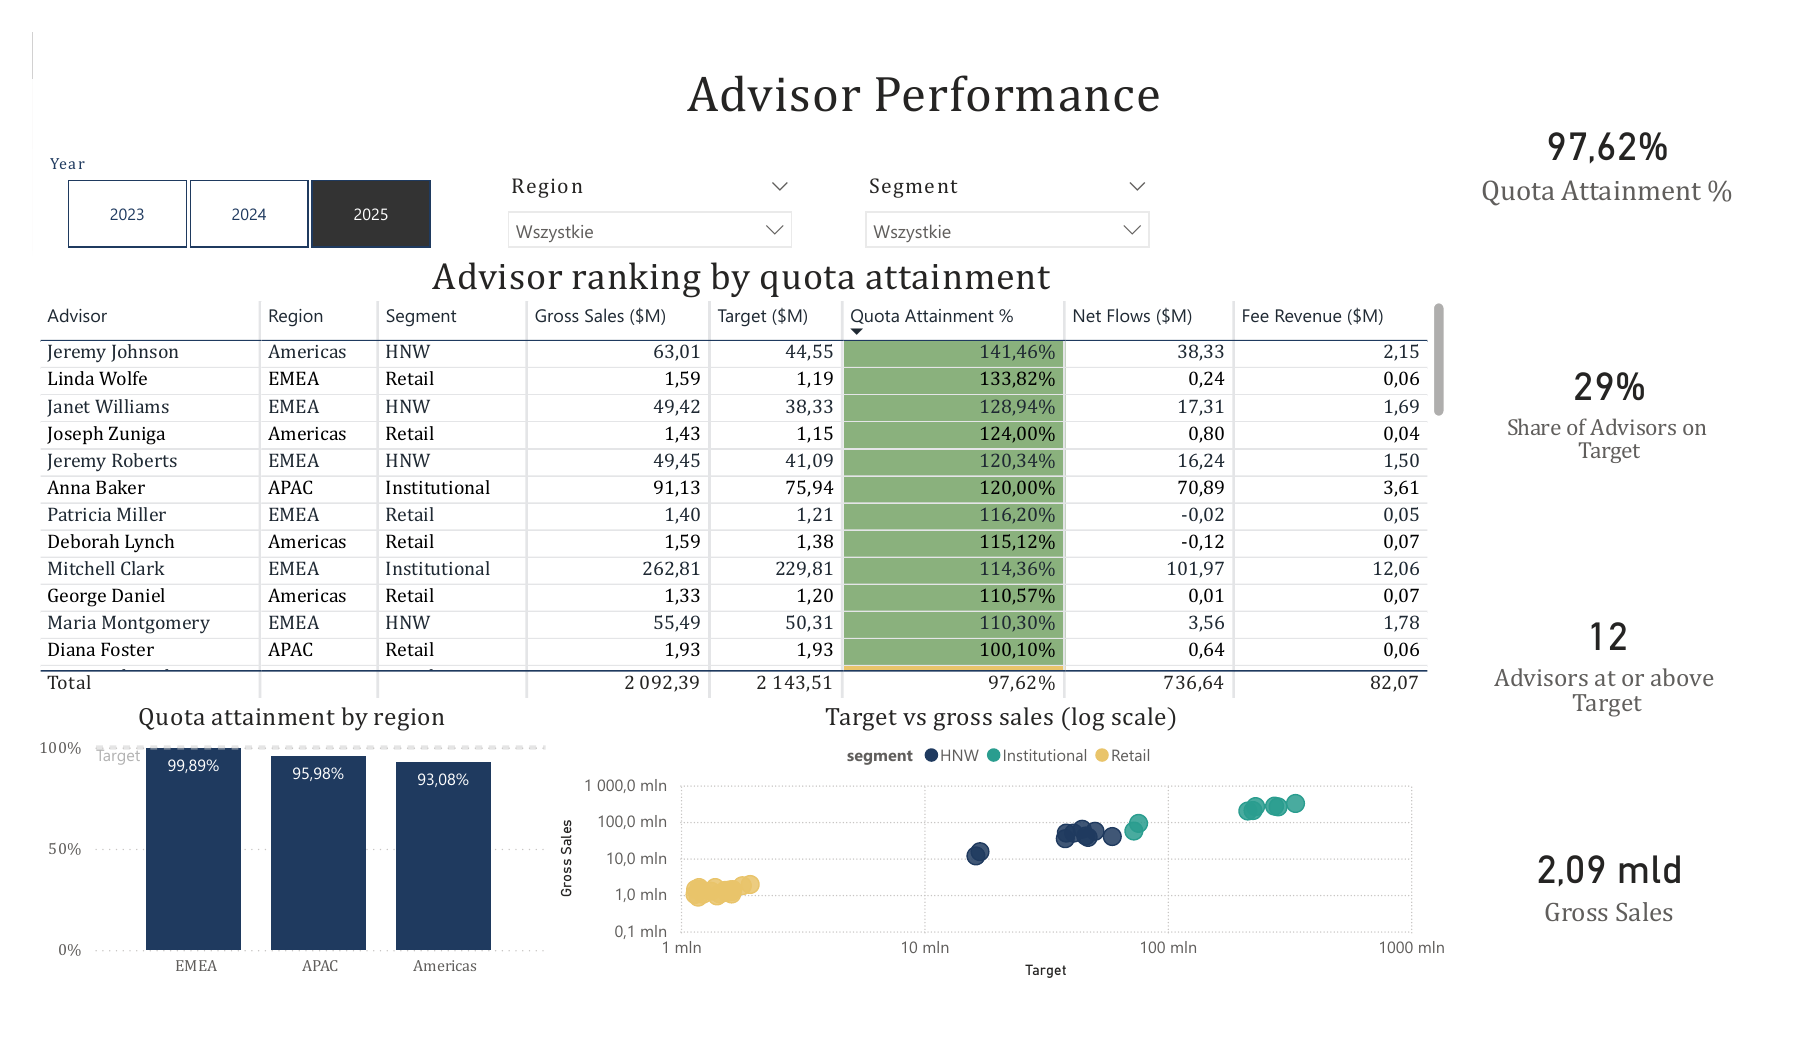

Layout of this report page (visuals, bound fields, positions):
{"tool":"powerbi","page":{"name":"Advisor Performance","canvas":[1280,720],"ordinal":1},"visuals":[{"type":"slicer","fields":{"Values":["Dim_Date.year"]},"box":[0,86.2,317.5,80],"z":0},{"type":"textbox","box":[187.5,21.2,942.5,80],"z":3000},{"type":"slicer","fields":{"Values":["Dim_Advisors.region"]},"box":[341.2,101.2,230,65],"z":3001},{"type":"slicer","fields":{"Values":["Dim_Advisors.segment"]},"box":[605,101.2,230,65],"z":3002},{"type":"card","fields":{"Values":["_Measures.Quota Attainment %"]},"box":[1065,21.2,196.2,145],"z":3003},{"type":"card","fields":{"Values":["_Measures.Share of Advisors on Target"]},"box":[1066.2,196.2,196.2,145],"z":3004},{"type":"card","fields":{"Values":["_Measures.Advisors at or above Target"]},"box":[1065,381.2,196.2,145],"z":3005},{"type":"card","fields":{"Values":["_Measures.Gross Sales"]},"box":[1066.2,553.8,196.2,145],"z":3006},{"type":"tableEx","title":"Advisor ranking by quota attainment","fields":{"Values":["Dim_Advisors.Advisor","Dim_Advisors.region","Dim_Advisors.segment","_Measures.Gross Sales ($M)","_Measures.Target ($M)","_Measures.Quota Attainment %","_Measures.Net Flows ($M)","_Measures.Fee Revenue ($M)"]},"box":[0,166.2,1047.5,330],"z":3007},{"type":"clusteredColumnChart","title":"Quota attainment by region","fields":{"Category":["Dim_Advisors.region"],"Y":["_Measures.Quota Attainment %"]},"box":[0,496.2,383.8,207.5],"z":3008},{"type":"scatterChart","title":"Target vs gross sales (log scale)","fields":{"X":["_Measures.Target"],"Y":["_Measures.Gross Sales"],"Category":["Dim_Advisors.Advisor"],"Series":["Dim_Advisors.segment"]},"box":[383.8,496.2,663.8,207.5],"z":3009}]}

Visuals, with their boxes in screenshot pixels (x1, y1, x2, y2), scaled from the page's 1280x720 canvas onto the 1799x1040 screenshot:
slicer - Dim_Date.year: [left=0, top=125, right=446, bottom=240]
textbox: [left=264, top=31, right=1588, bottom=146]
slicer - Dim_Advisors.region: [left=480, top=146, right=803, bottom=240]
slicer - Dim_Advisors.segment: [left=850, top=146, right=1174, bottom=240]
card - _Measures.Quota Attainment %: [left=1497, top=31, right=1773, bottom=240]
card - _Measures.Share of Advisors on Target: [left=1499, top=283, right=1774, bottom=493]
card - _Measures.Advisors at or above Target: [left=1497, top=551, right=1773, bottom=760]
card - _Measures.Gross Sales: [left=1499, top=800, right=1774, bottom=1009]
"Advisor ranking by quota attainment" tableEx: [left=0, top=240, right=1472, bottom=717]
"Quota attainment by region" clusteredColumnChart: [left=0, top=717, right=539, bottom=1016]
"Target vs gross sales (log scale)" scatterChart: [left=539, top=717, right=1472, bottom=1016]
